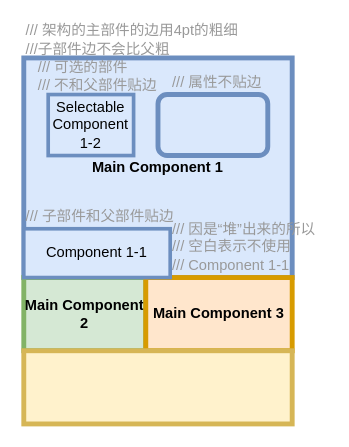
This 349x447 diagram has some shape labels left out. The box of each missing label's shape, as (x1, y1, x2, y2) in pixels:
Main Component 1's Attributions: (155, 92, 270, 157)
Main Component 4: (21, 348, 294, 426)
